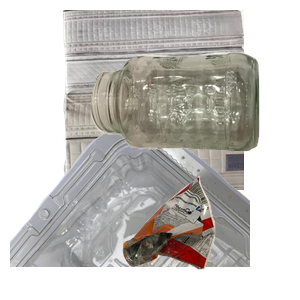glass: (88, 50, 300, 194)
paper: (60, 10, 300, 190)
plastic: (10, 120, 250, 300)
trash: (120, 174, 300, 300)
